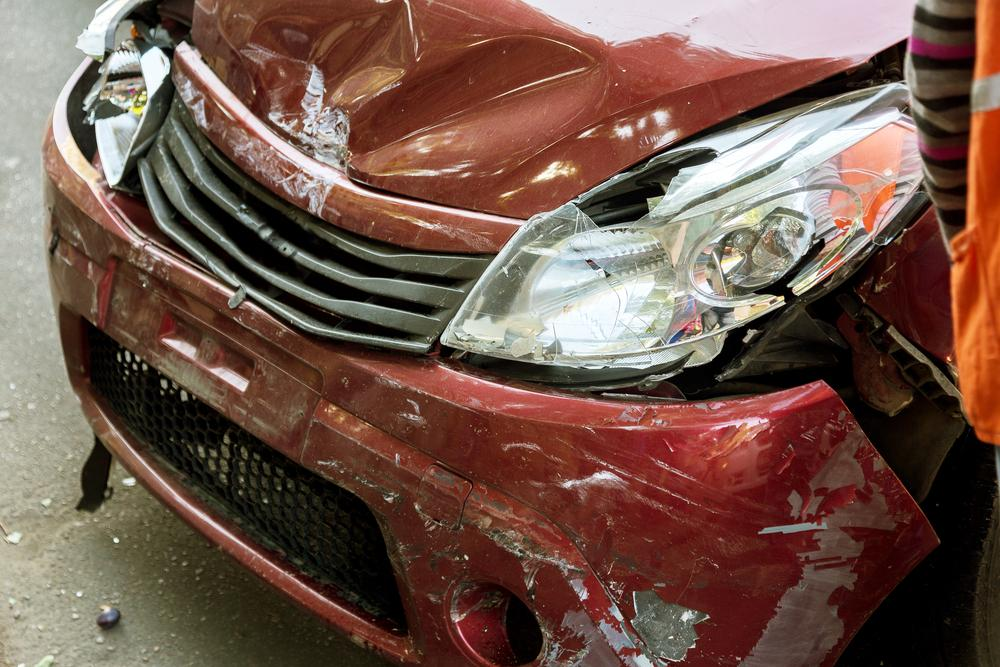dent: (244, 0, 618, 185)
lamp broken: (444, 81, 926, 366), (78, 0, 199, 187)
scratch: (468, 402, 902, 667), (222, 102, 354, 211)
